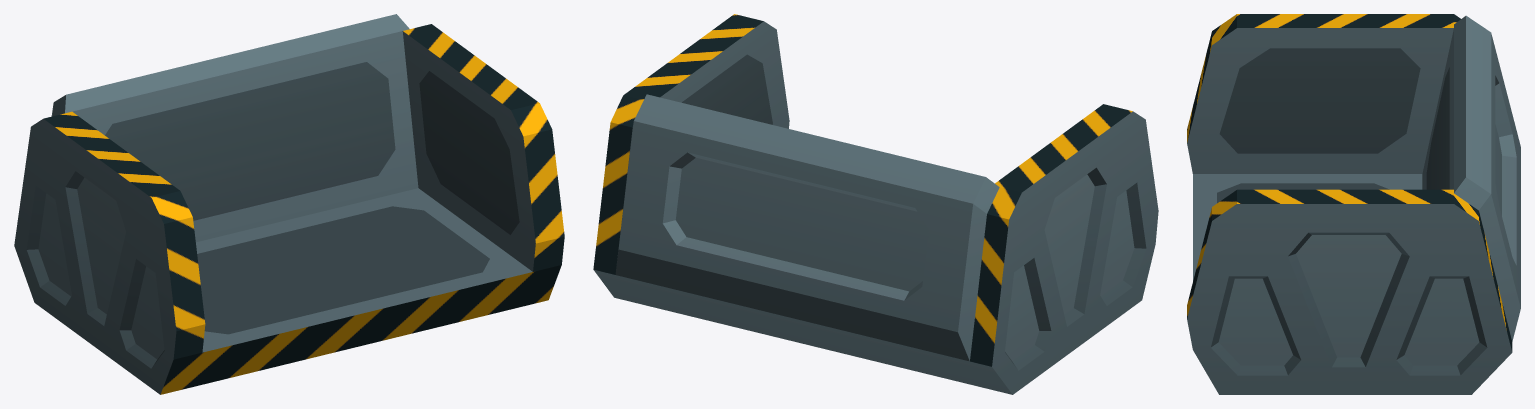
File: Crate_016.fbx
The picture shows the model from 3 angles, left to right: view 1: azimuth 30°, elevation 25°; view 2: azimuth 150°, elevation 25°; view 3: azimuth 270°, elevation 25°; orthographic projection. The views are drawn at different scales.
Parts seen in each view (by area): view 1: Crate_016; view 2: Crate_016; view 3: Crate_016.
Part boxes in pixels (x1,y1,x2,y2): Crate_016: (14, 14, 564, 394); Crate_016: (593, 14, 1158, 394); Crate_016: (1187, 14, 1520, 394).
Size of the model in its own units: 100 by 74.3 by 50.
